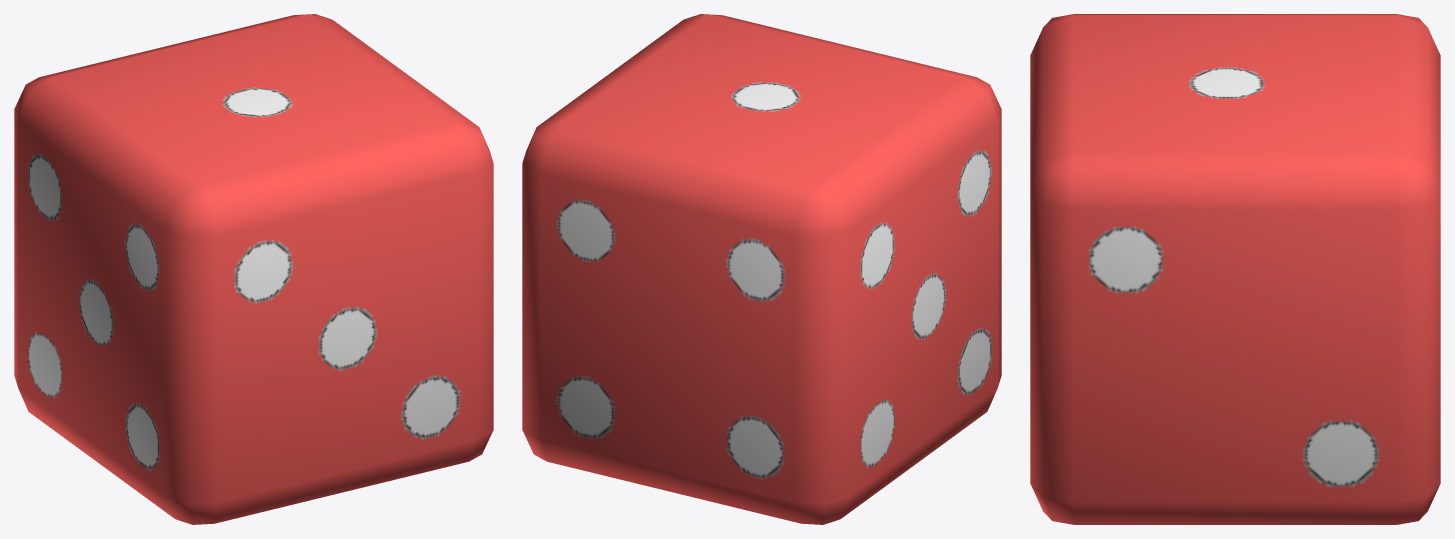
The picture shows the model from 3 angles, left to right: view 1: azimuth 30°, elevation 25°; view 2: azimuth 150°, elevation 25°; view 3: azimuth 270°, elevation 25°; orthographic projection. The views are drawn at different scales.
Visible parts, largest first — view 1: Mesh_0; view 2: Mesh_0; view 3: Mesh_0.
Part boxes in pixels (x1,y1,x2,y2): Mesh_0: [14, 14, 493, 524]; Mesh_0: [522, 14, 1001, 524]; Mesh_0: [1030, 14, 1440, 524].
Size of the model in its own units: 20 by 20 by 20.
Materials: 1 (1 with a texture image).
